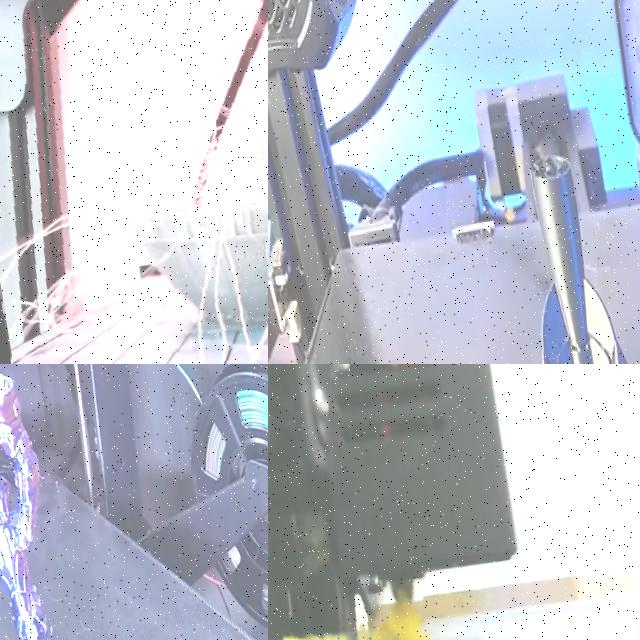spaghetti: (0, 0, 268, 364), (359, 593, 427, 640)
